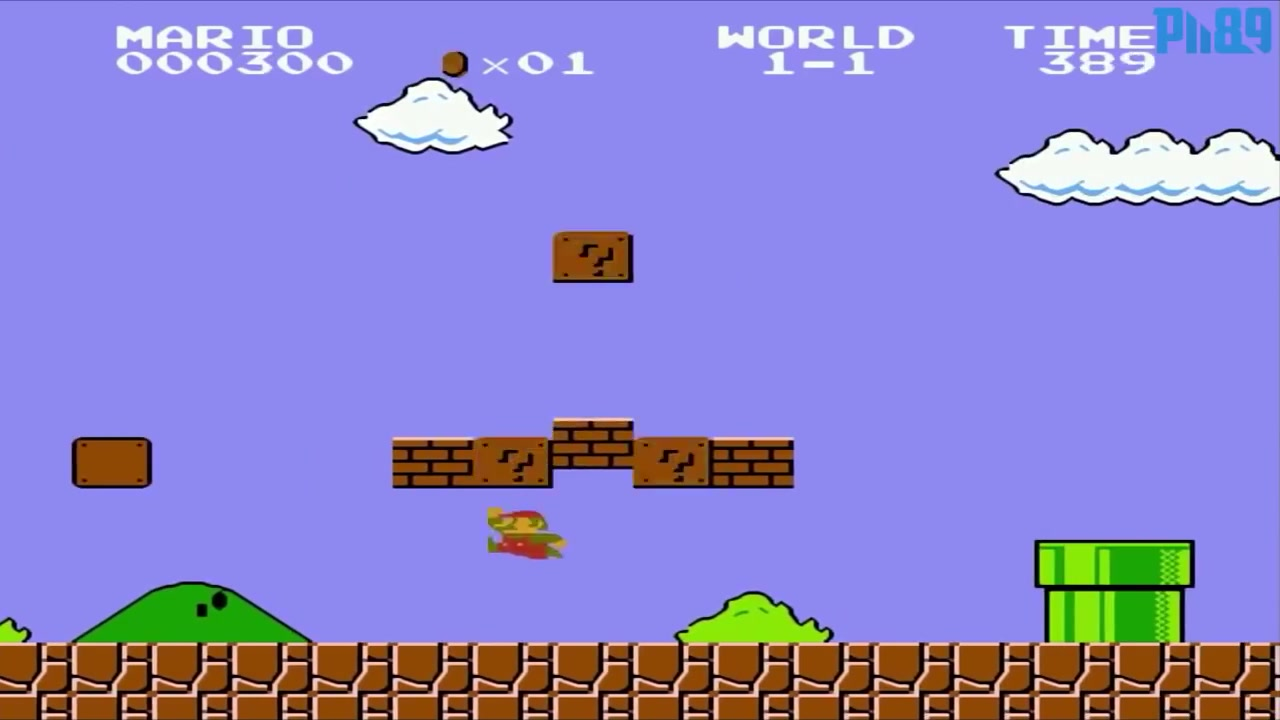mario: (474, 500, 572, 568)
